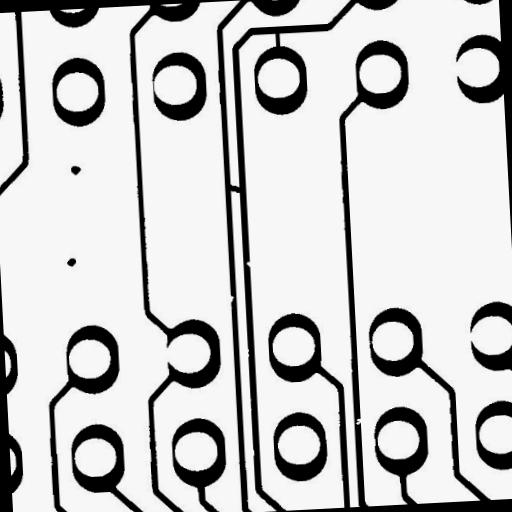copper: (63, 158, 89, 183), (58, 250, 84, 274)
mousebite: (238, 254, 264, 276), (348, 410, 372, 432), (220, 287, 242, 310)
short: (218, 175, 250, 201), (267, 23, 288, 56)
